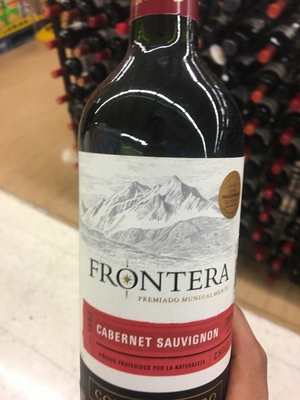frontera cabernet sauvignon: (78, 10, 246, 396)
